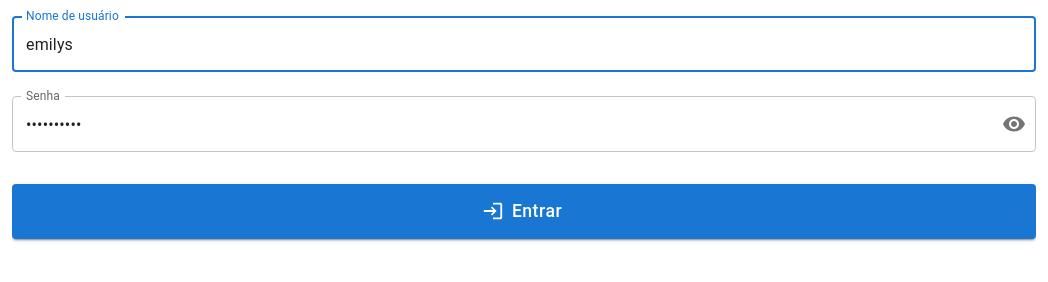
Test case: LoginForm › validates minimum password length
Type "123" into the password field labelled "Senha". click: (499, 124)
box: x1=12 y1=96 x2=986 y2=152
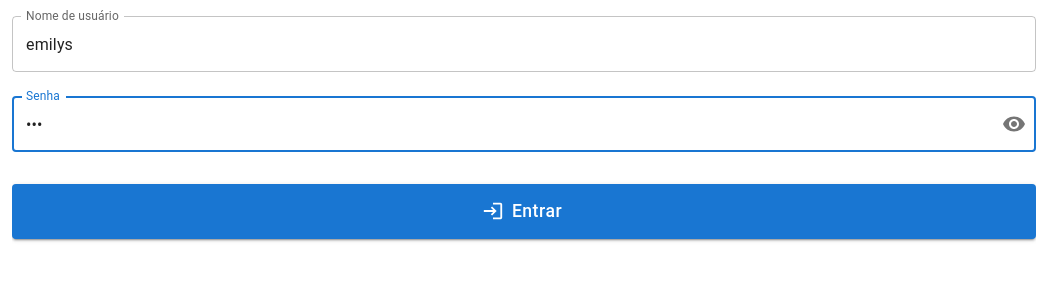
Click the button "Entrar". click: (524, 211)
box: x1=12 y1=184 x2=1036 y2=239
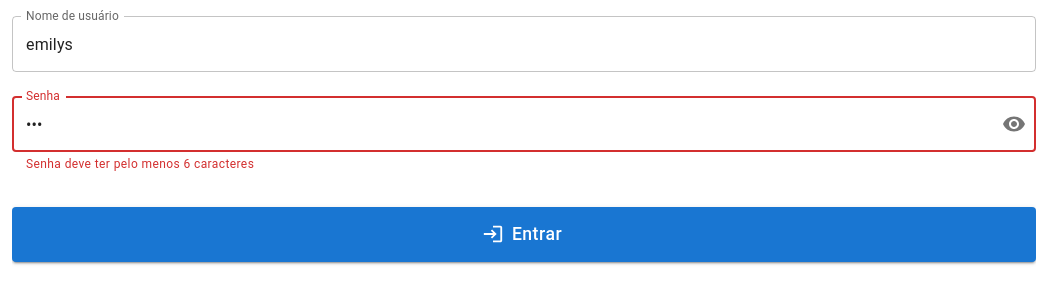
Check: the text "Senha deve ter pelo menos 6 caracteres" is shown, box x1=26 y1=157 x2=254 y2=171
